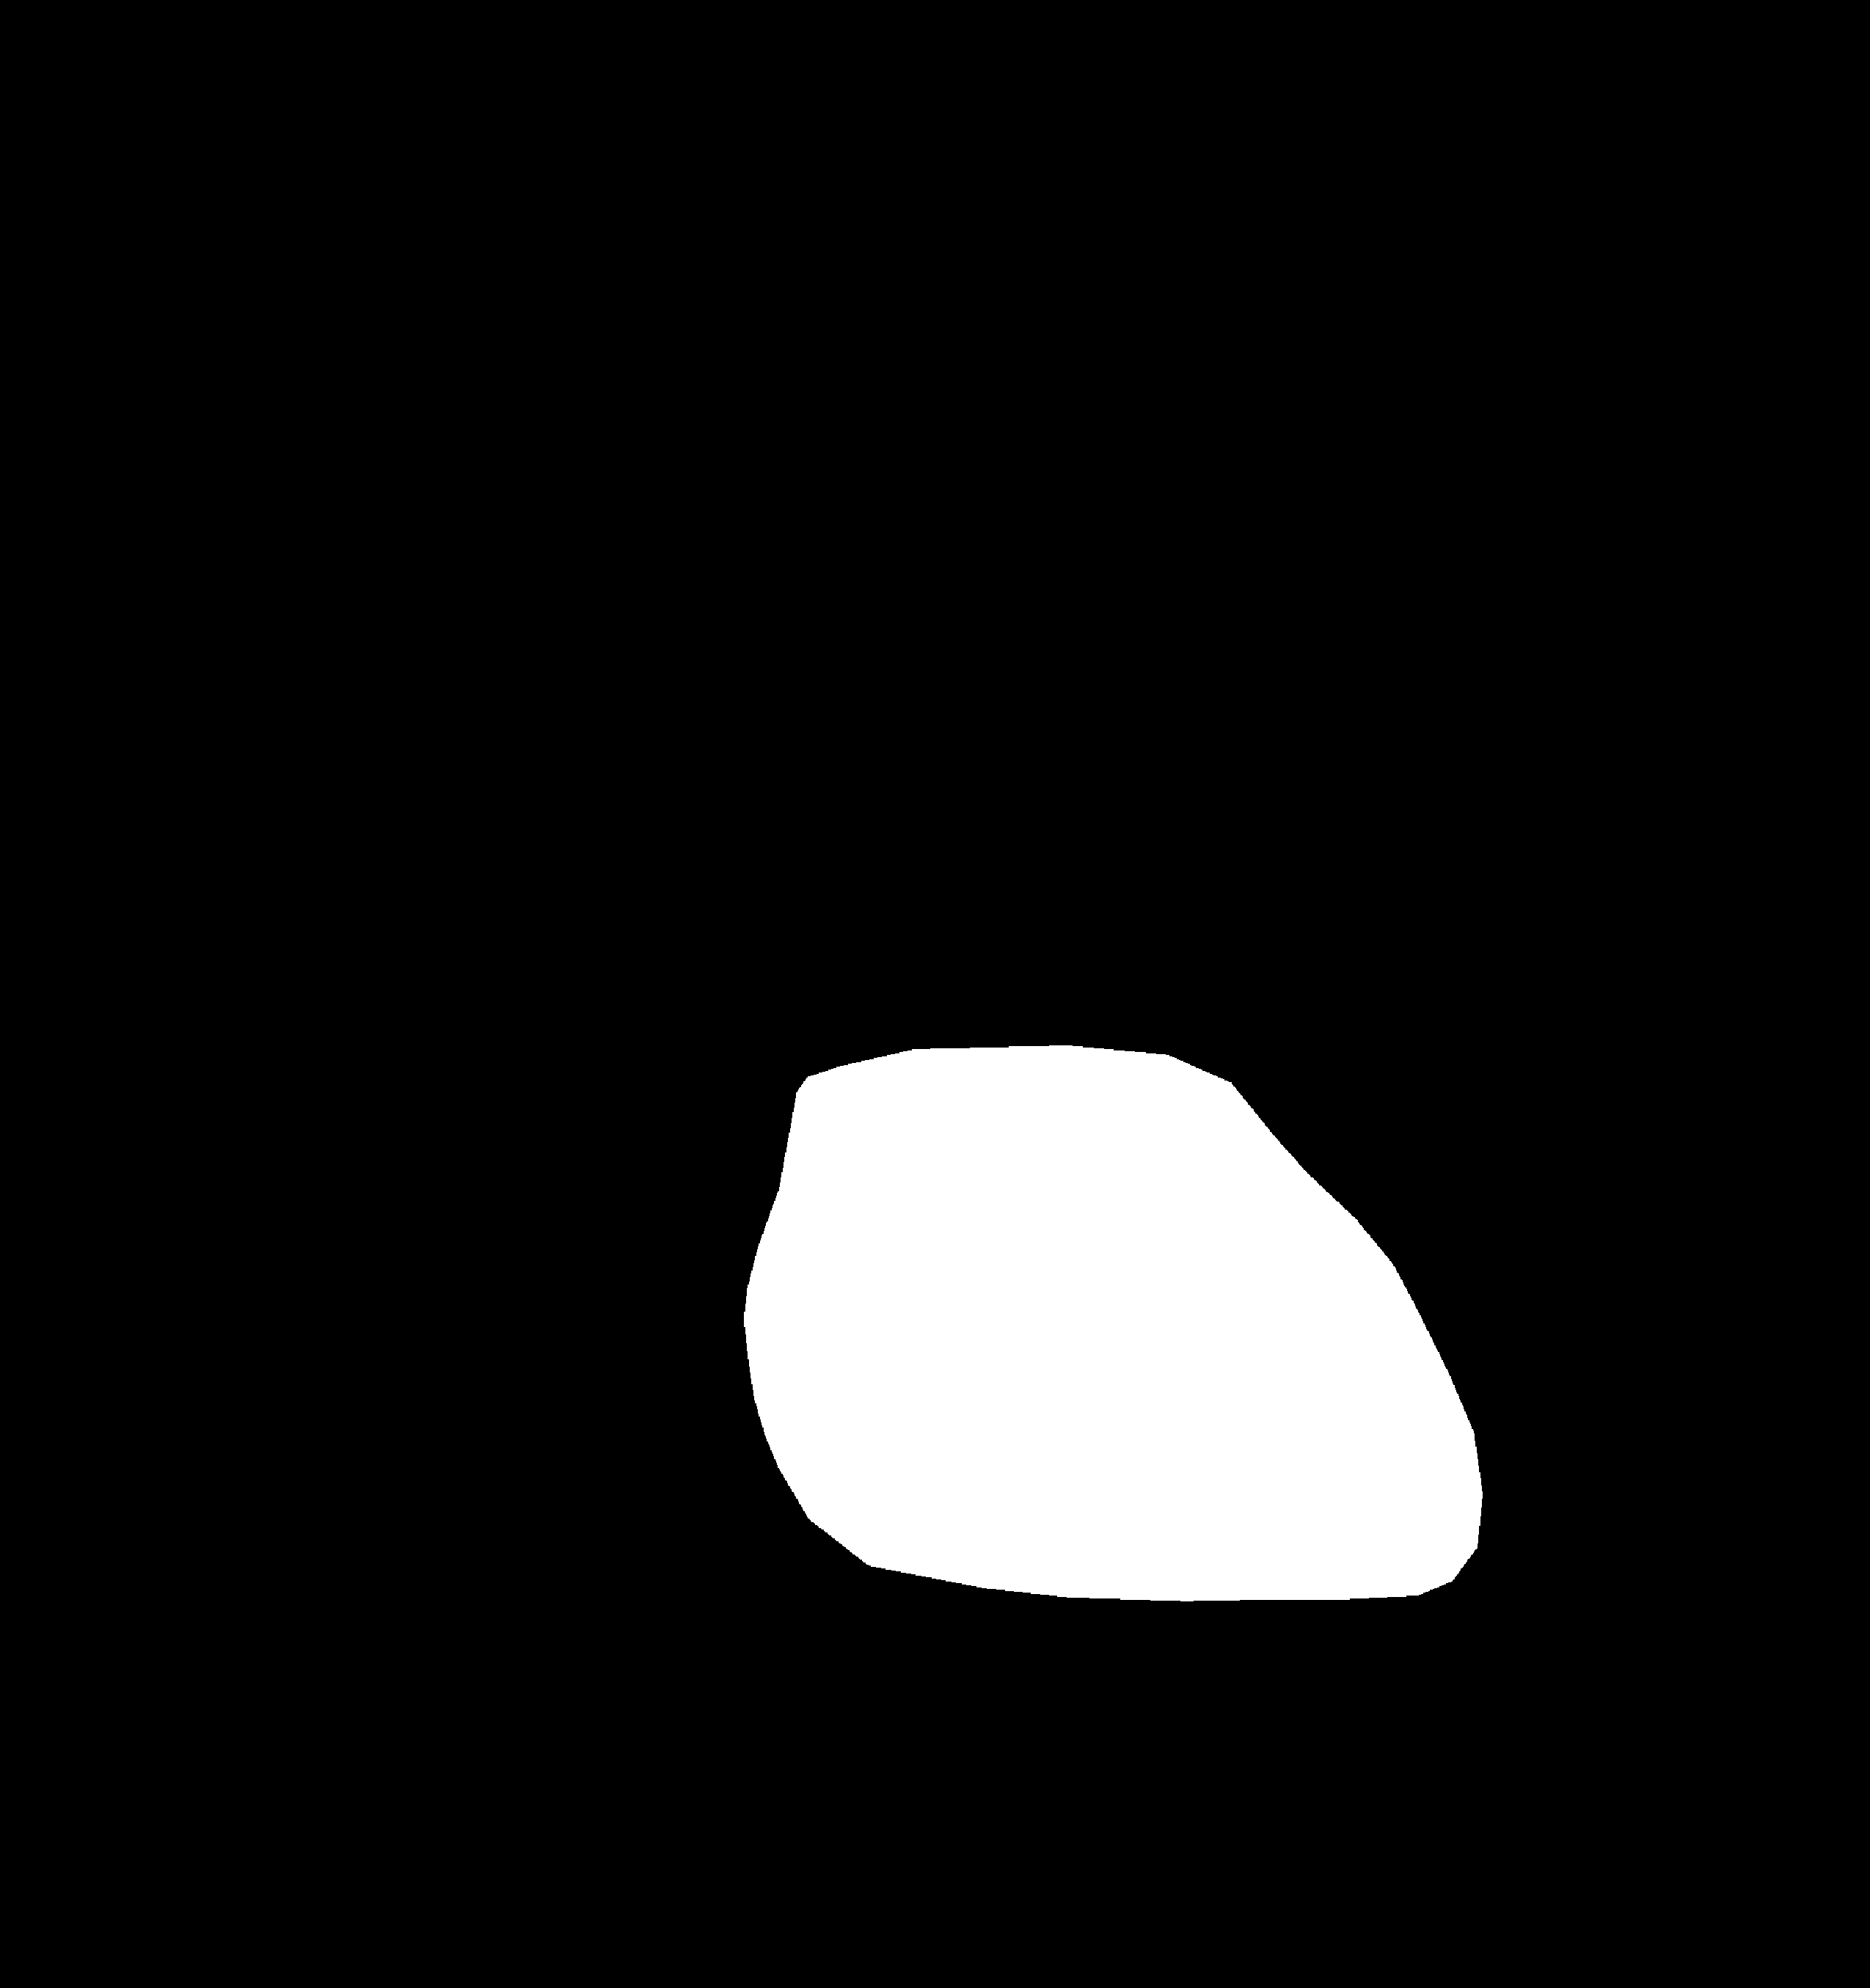heart: (738, 1172, 1483, 1605)
left_lung: (206, 353, 872, 1856)
right_lung: (1016, 299, 1758, 1854)
